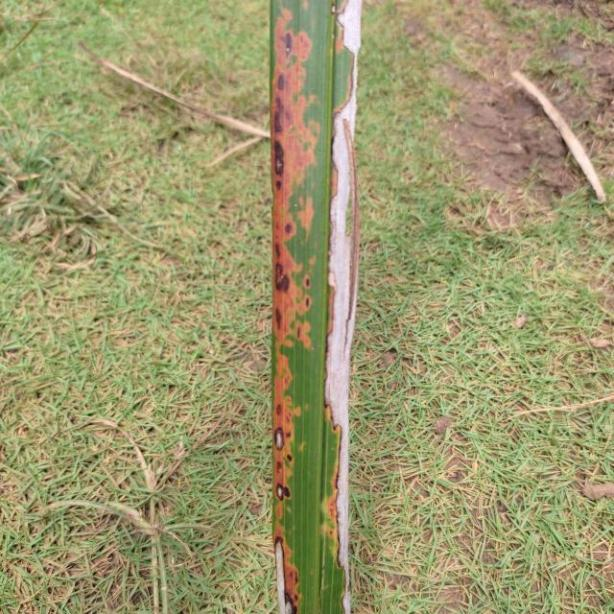Kalium: (266, 3, 362, 614)
